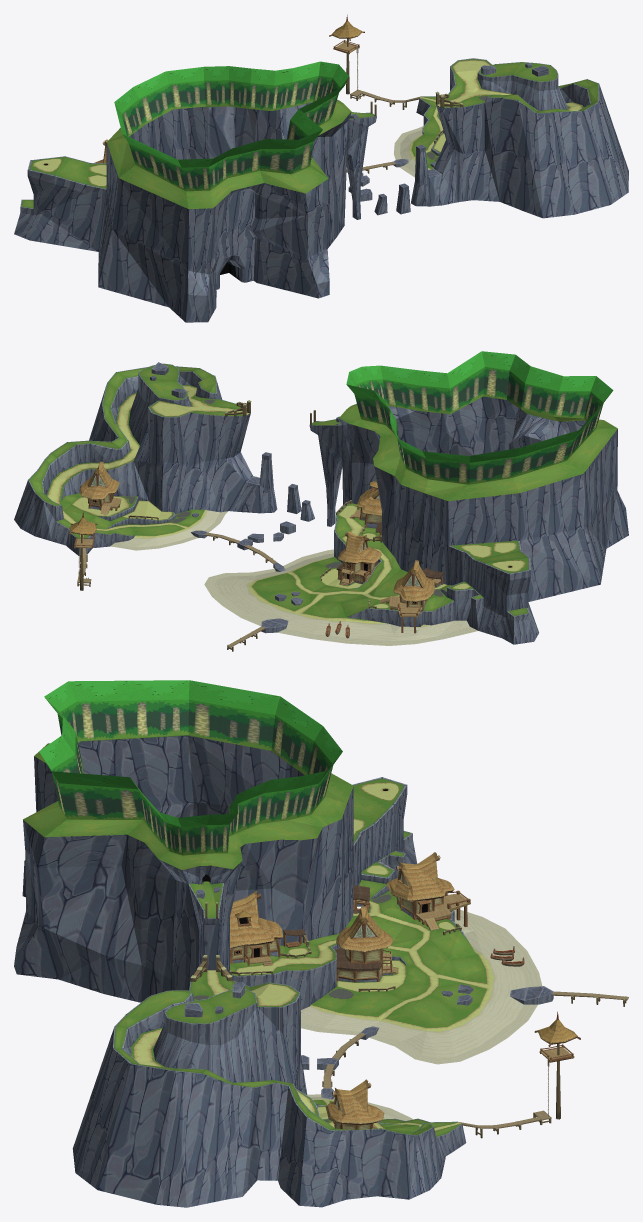
File: island.glb
3 views of the same model, one above another, from view 1: azimuth 30°, elevation 25°; view 2: azimuth 150°, elevation 25°; view 3: azimuth 270°, elevation 25° (orthographic). The views are drawn at different scales.
Visible parts, largest first — view 1: Island; view 2: Island; view 3: Island.
Part boxes in pixels (bbox=[...]): Island: bbox=[14, 14, 628, 322]; Island: bbox=[14, 351, 628, 651]; Island: bbox=[14, 680, 628, 1207].
Bounding box in the file's own units: 19408 × 5574 × 14496.
8 materials, 8 textured.
